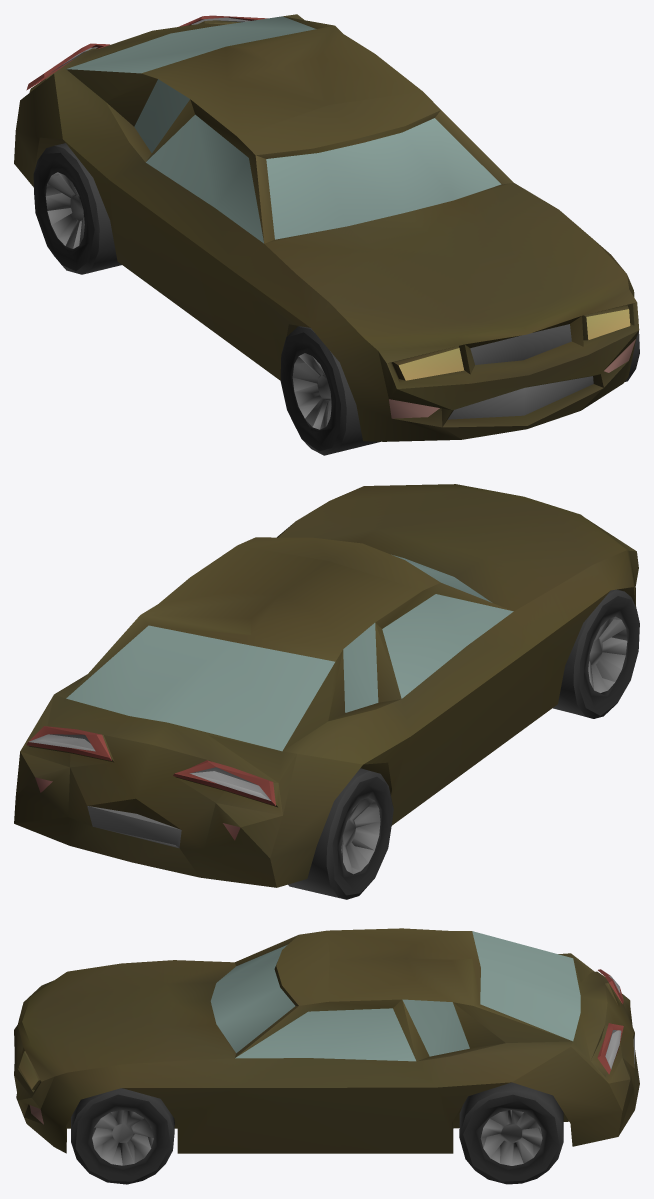
The model's file is Car1.fbx.
3 renders of one model, top to bottom at view 1: azimuth 30°, elevation 25°; view 2: azimuth 150°, elevation 25°; view 3: azimuth 270°, elevation 25°, orthographic. The views are drawn at different scales.
Parts seen in each view (by area): view 1: Car 1.001; view 2: Car 1.001; view 3: Car 1.001.
Boxes of the visible parts, x1=… form: Car 1.001: x1=14, y1=14, x2=639, y2=455; Car 1.001: x1=14, y1=484, x2=639, y2=899; Car 1.001: x1=14, y1=928, x2=639, y2=1184.
Bounding box in the file's own units: 5.95 × 13.59 × 4.08.
